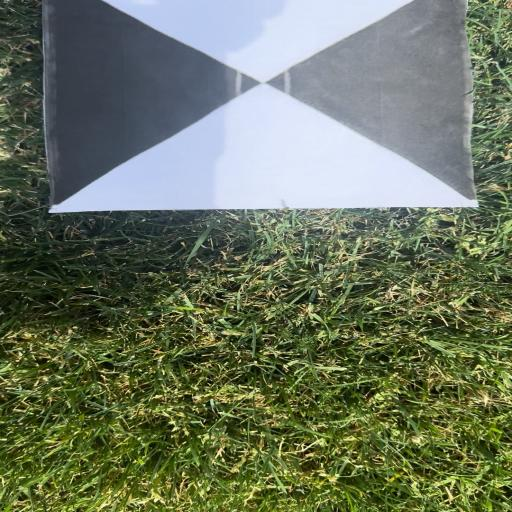target: (42, 1, 476, 207)
